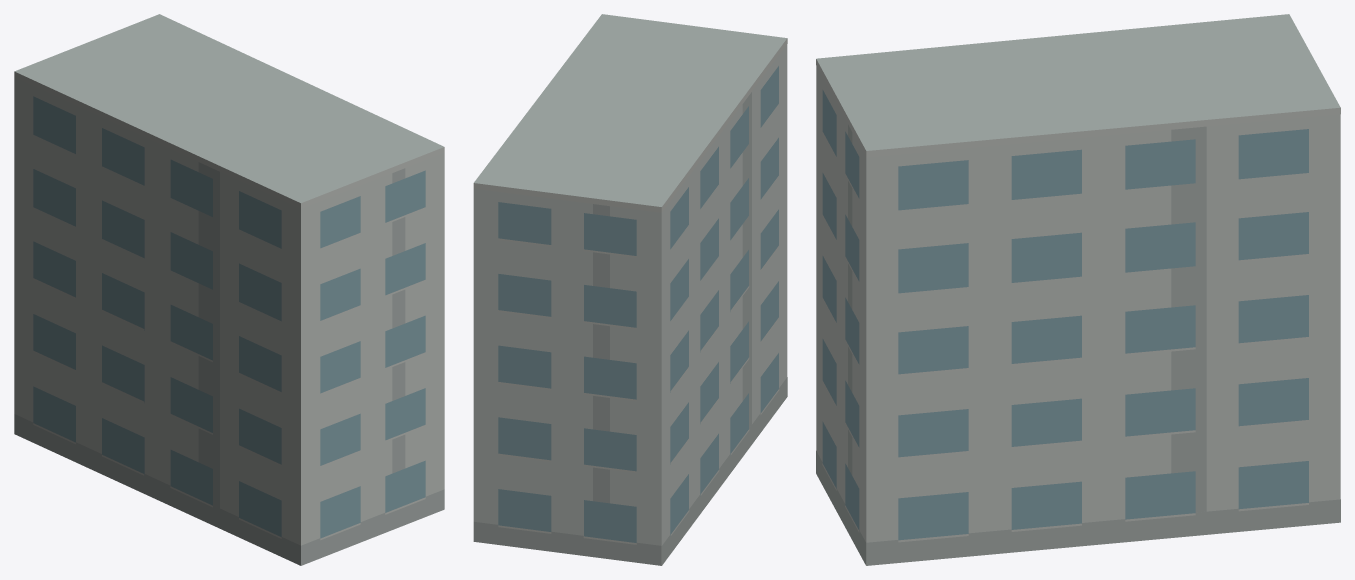
File: residential-e29ce312-fa2b-433d-91ce-b680e96c90d3.glb
3 renders of one model, left to right at view 1: azimuth 30°, elevation 25°; view 2: azimuth 150°, elevation 25°; view 3: azimuth 270°, elevation 25°, orthographic. The views are drawn at different scales.
Parts seen in each view (by area): view 1: residential-e29ce312-fa2b-433d-91ce-b680e96c90d3.tmp; view 2: residential-e29ce312-fa2b-433d-91ce-b680e96c90d3.tmp; view 3: residential-e29ce312-fa2b-433d-91ce-b680e96c90d3.tmp.
Part boxes in pixels (x1,y1,x2,y2): residential-e29ce312-fa2b-433d-91ce-b680e96c90d3.tmp: [14, 14, 444, 565]; residential-e29ce312-fa2b-433d-91ce-b680e96c90d3.tmp: [473, 14, 787, 565]; residential-e29ce312-fa2b-433d-91ce-b680e96c90d3.tmp: [816, 14, 1340, 565].
Bounding box in the file's own units: 10.81 × 15.25 × 17.49.
